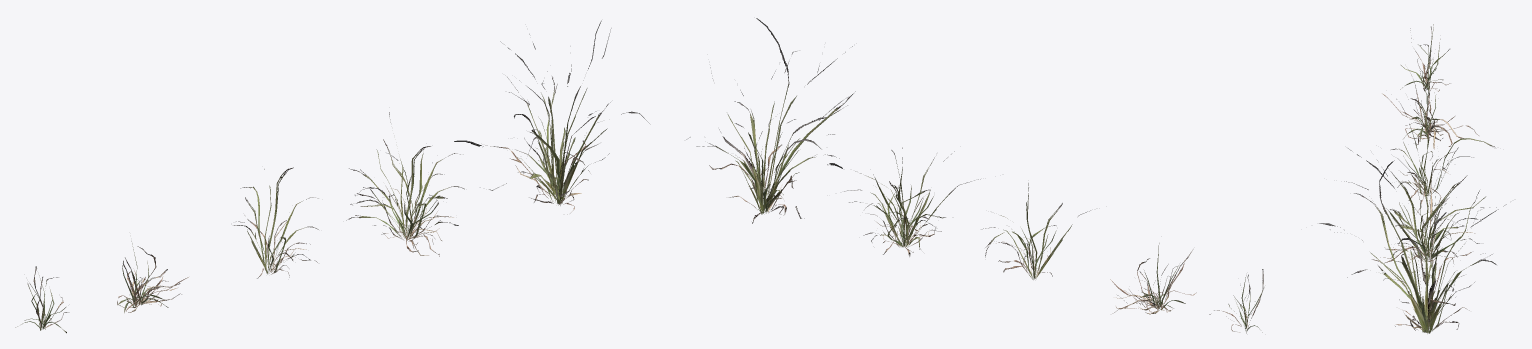
File: grass_medium_02.glb
3 renders of one model, left to right at view 1: azimuth 30°, elevation 25°; view 2: azimuth 150°, elevation 25°; view 3: azimuth 270°, elevation 25°, orthographic. The views are drawn at different scales.
Parts seen in each view (by area): view 1: grass_medium_02_a; view 2: grass_medium_02_a; view 3: grass_medium_02_a.
Boxes of the visible parts, left/top/right/bottom form: grass_medium_02_a: left=15, top=20, right=650, bottom=333; grass_medium_02_a: left=686, top=18, right=1264, bottom=333; grass_medium_02_a: left=1319, top=24, right=1506, bottom=333.
Size of the model in its own units: 1.29 by 0.4053 by 0.4318.
Materials: 1 (1 with a texture image).
